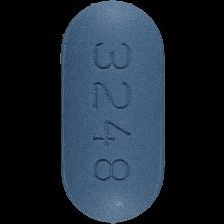54868-6090: (0, 0, 224, 224)
